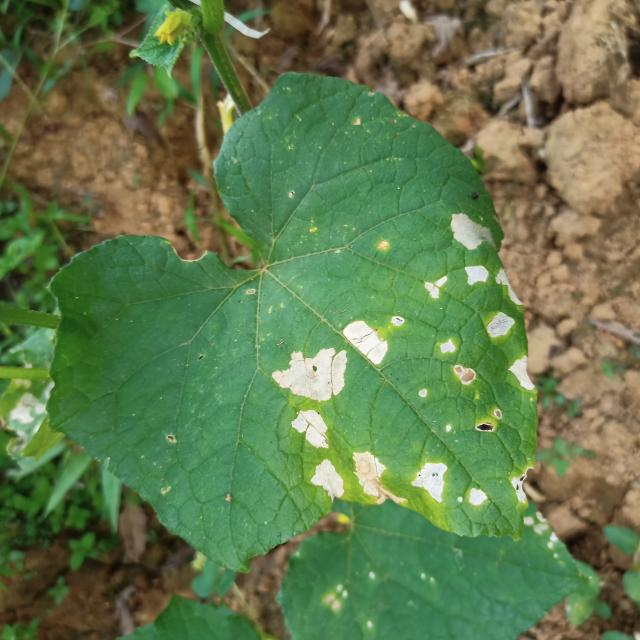disease_cucumber: (272, 323, 389, 403), (313, 450, 390, 502), (412, 462, 489, 507), (449, 211, 495, 286), (439, 338, 477, 389), (293, 408, 327, 454), (508, 351, 532, 395), (496, 268, 522, 301), (488, 311, 515, 337), (420, 276, 449, 298)
